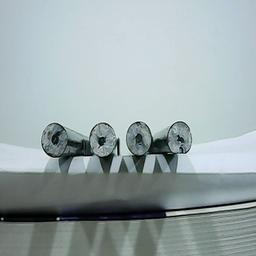pen: (40, 122, 67, 158), (89, 120, 116, 156), (125, 118, 152, 154), (166, 120, 192, 153)
